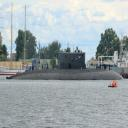submarine: (8, 51, 125, 81)
